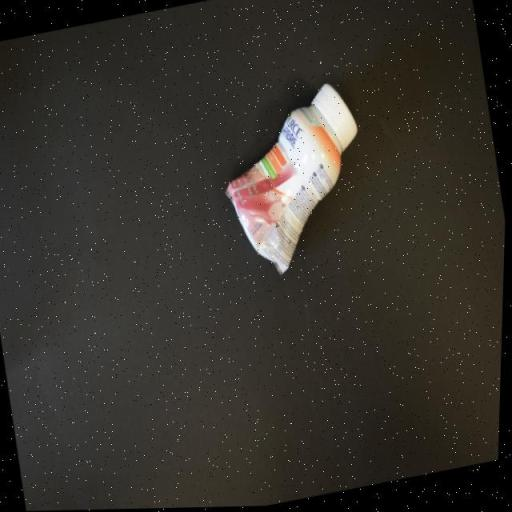plastic: (212, 79, 384, 291)
